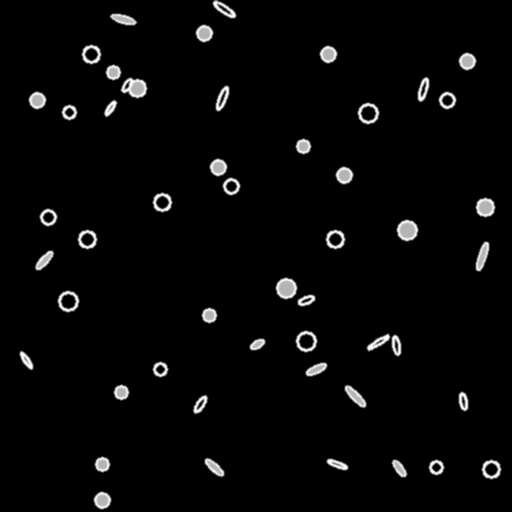pseudomonas: (343, 384, 367, 408), (212, 0, 236, 19), (474, 242, 490, 270), (203, 457, 225, 477), (366, 333, 390, 351), (214, 85, 230, 111), (34, 250, 54, 270), (110, 12, 136, 26), (305, 362, 327, 376), (417, 77, 429, 101), (391, 459, 407, 477), (326, 458, 348, 470), (19, 351, 33, 369), (193, 395, 207, 413), (103, 100, 117, 116), (120, 77, 134, 93), (297, 294, 315, 306), (249, 338, 265, 350), (391, 336, 401, 354), (459, 392, 467, 410)
synechocystis: (398, 221, 416, 239), (59, 292, 77, 310), (277, 279, 295, 297), (359, 104, 377, 122), (297, 332, 315, 350), (129, 80, 145, 96), (477, 199, 493, 215), (483, 461, 499, 477), (79, 231, 95, 247), (327, 231, 343, 247), (154, 194, 170, 210), (83, 46, 99, 62), (337, 168, 351, 182), (95, 493, 109, 507), (197, 26, 211, 40), (440, 93, 454, 107), (321, 47, 335, 61), (224, 179, 238, 193), (30, 93, 44, 107), (211, 160, 225, 174), (460, 54, 474, 68), (41, 210, 55, 224), (107, 66, 119, 78), (154, 363, 166, 375), (203, 309, 215, 321), (430, 461, 442, 473), (63, 106, 75, 118), (297, 140, 309, 152), (115, 386, 127, 398), (96, 458, 108, 470)
